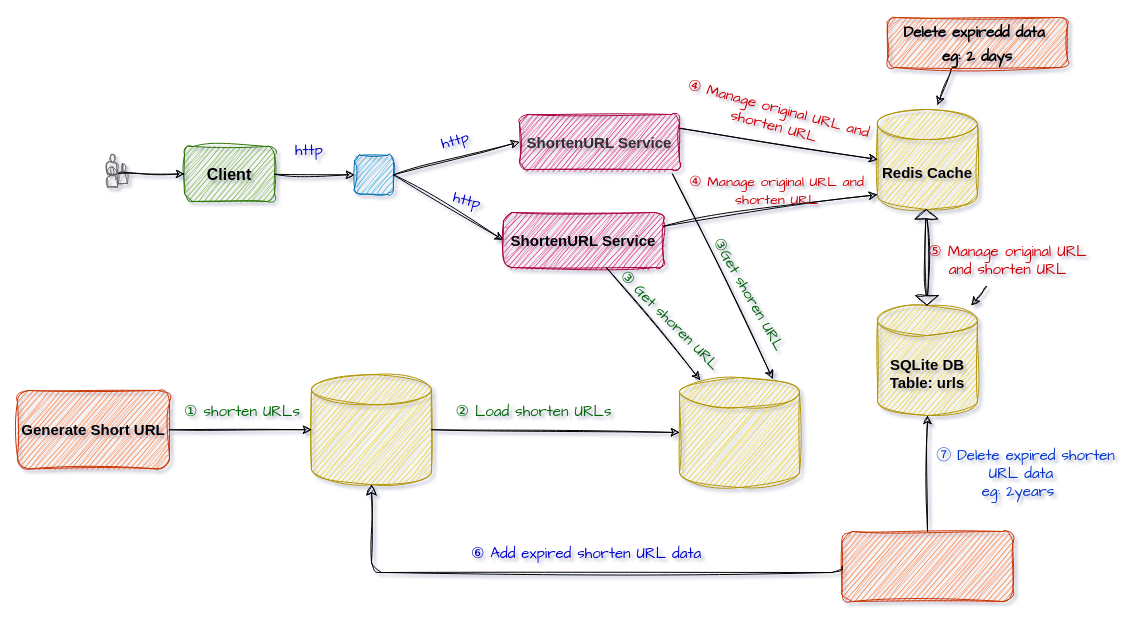
The diagram is 1148 pixels wide and 625 high, and some of its shapes have lost their labels. The shapes that lost their labels are listed below. From the top down, each one's centre as x and y in pixels, then its label:
At point (374, 174): "LB".
At point (371, 429): "SQLite DB Table: pre_generated_urls".
At point (739, 432): "SQLite DB Table: pre_reload_urls".
At point (927, 566): "Delete expired Shorten URL Service".
